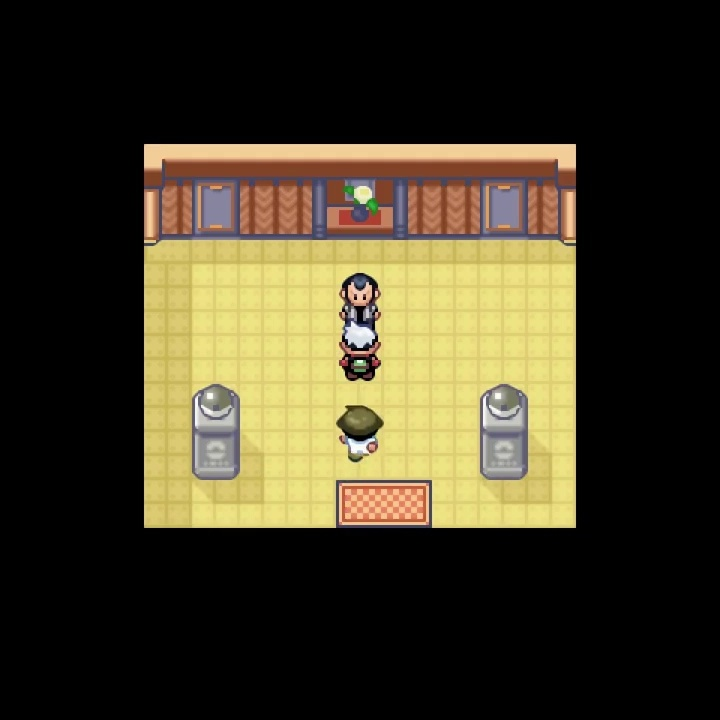exit: (333, 477, 435, 582)
npc: (335, 401, 386, 464), (337, 326, 384, 383), (338, 270, 383, 328)
